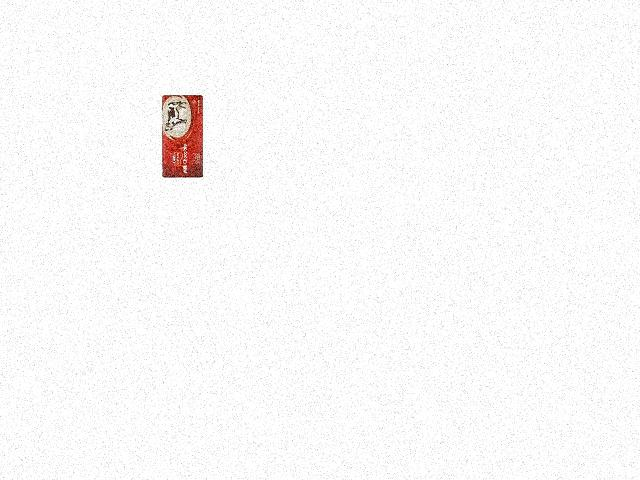chocolate: (162, 95, 205, 179)
